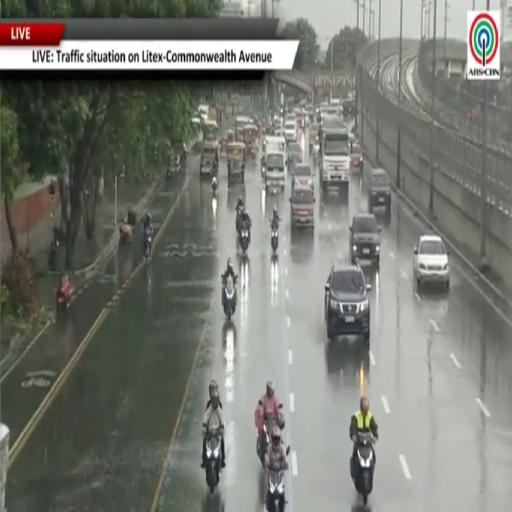car: (325, 262, 371, 347), (414, 235, 449, 290), (349, 213, 380, 265), (367, 168, 391, 214), (290, 185, 315, 228), (292, 164, 314, 190), (350, 134, 363, 171), (288, 142, 302, 171), (309, 123, 319, 153), (284, 121, 296, 141)
motorcycle: (257, 405, 284, 468), (351, 434, 374, 505), (205, 430, 221, 493), (267, 471, 285, 511), (56, 279, 74, 315), (223, 277, 236, 321), (257, 422, 269, 468), (144, 233, 152, 261), (240, 228, 249, 252), (271, 223, 278, 253), (212, 175, 218, 195)
truck: (319, 125, 350, 191), (261, 136, 287, 190)
